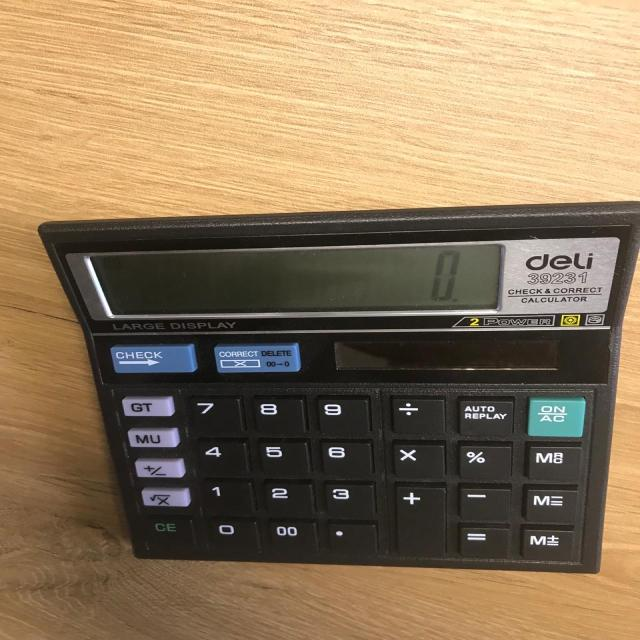calculator: (35, 198, 639, 574)
